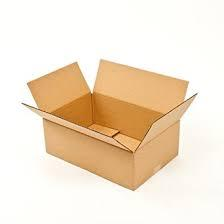Cardboard: (3, 40, 216, 203)
